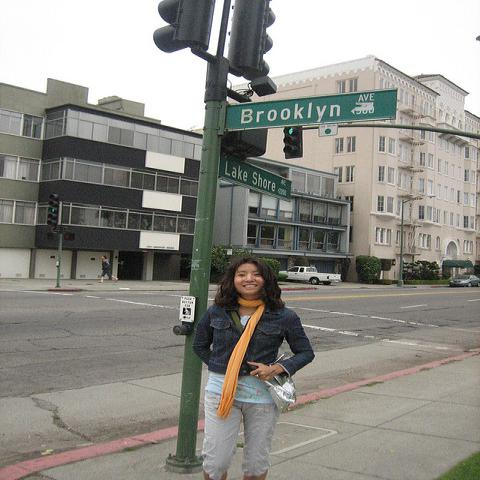car: (448, 274, 480, 288)
truck: (279, 266, 343, 285)
